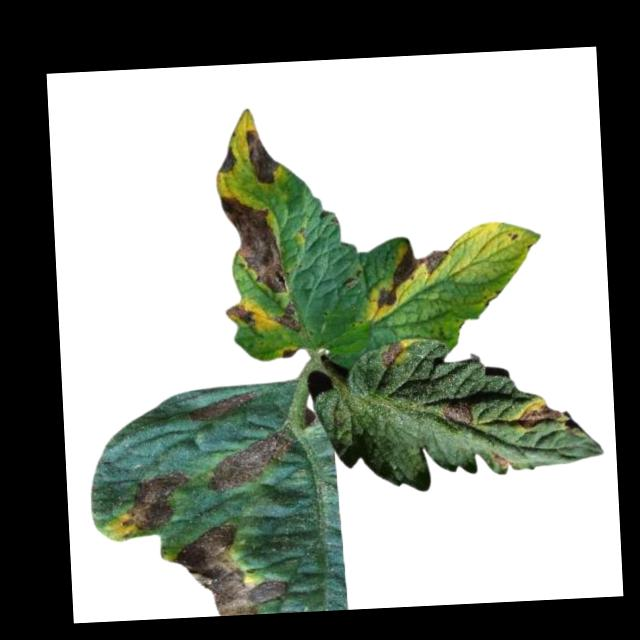Early_blight: (168, 522, 288, 617), (216, 194, 287, 297), (202, 431, 293, 494), (372, 241, 450, 311), (123, 470, 191, 536), (185, 390, 260, 425), (244, 128, 281, 188), (513, 399, 562, 434), (439, 399, 474, 428), (376, 341, 406, 371), (274, 302, 302, 334), (225, 304, 253, 329), (216, 145, 238, 173), (489, 452, 510, 471), (282, 347, 296, 361)
